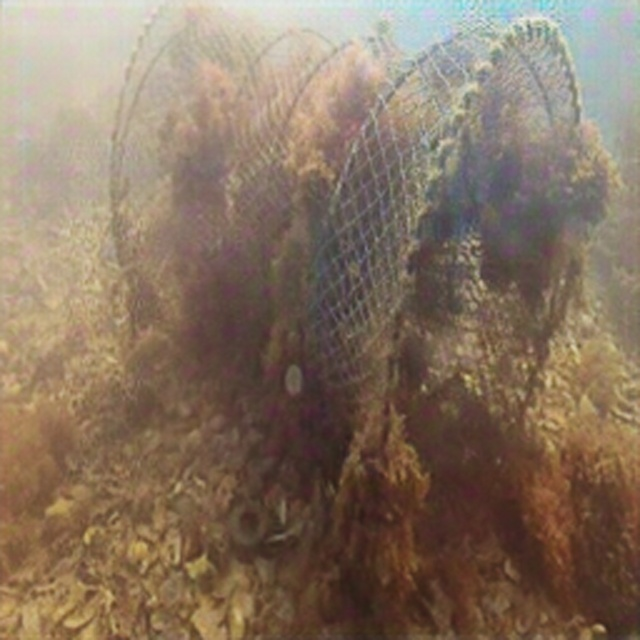mine: (107, 0, 586, 571)
